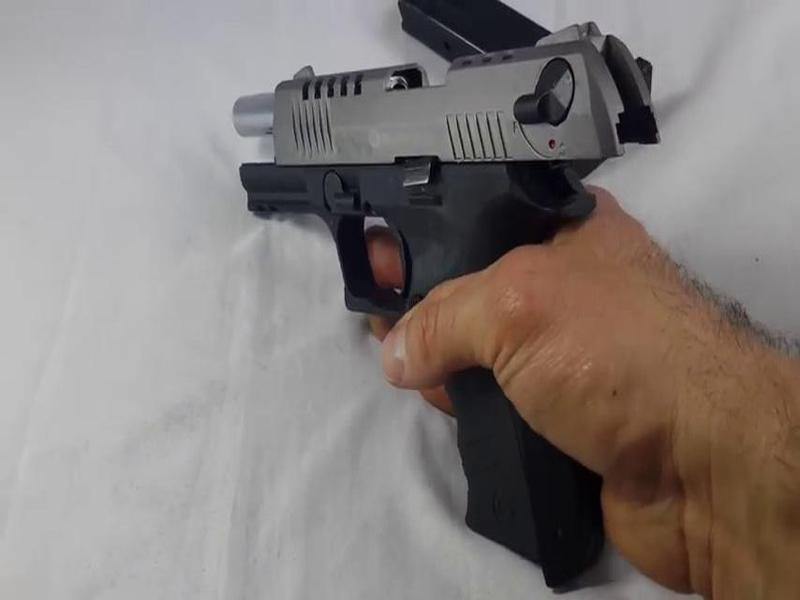Pistola: (203, 26, 686, 587)
